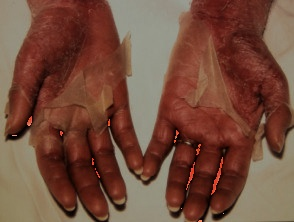SJS-TEN: (0, 0, 175, 191), (159, 0, 294, 193)
